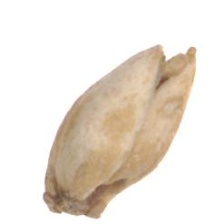L1: (40, 187, 105, 217), (154, 44, 197, 84)
L2: (41, 43, 197, 220)
